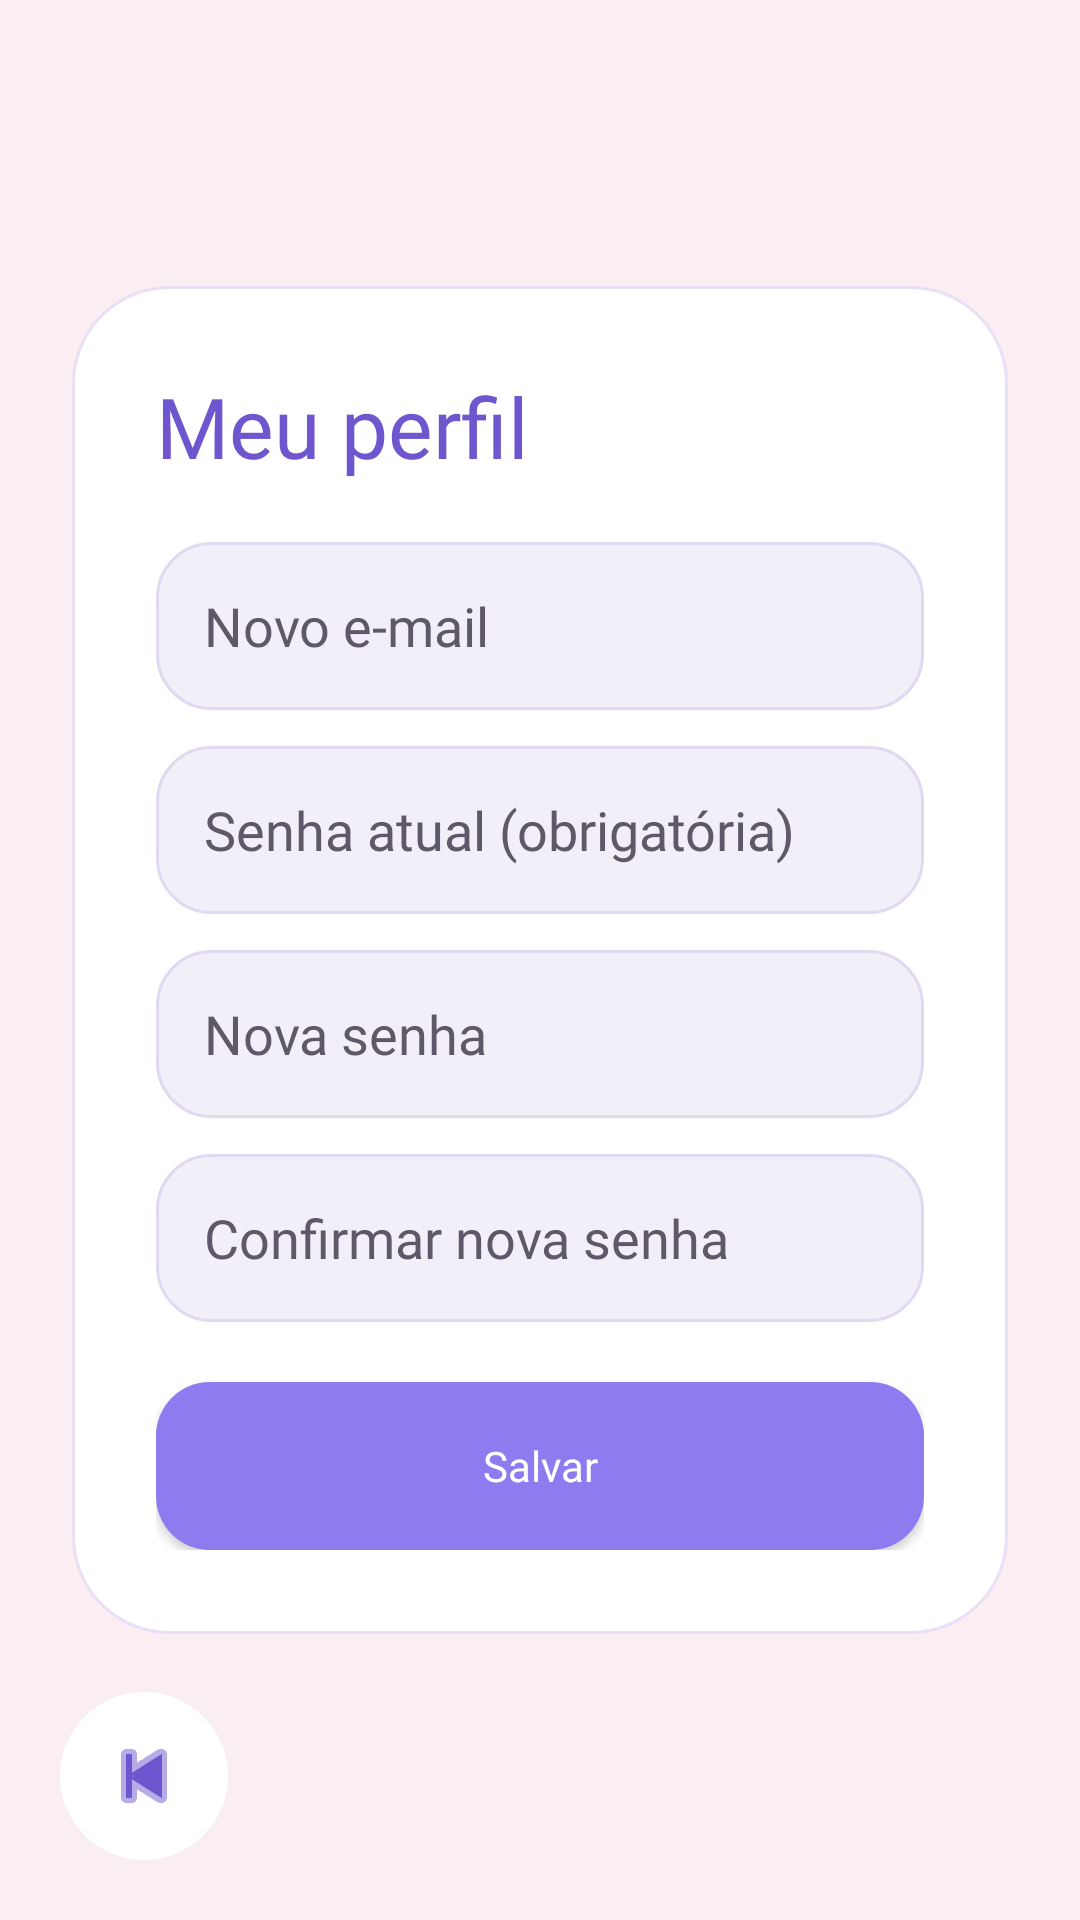

Icon bounding boxes for this 1080x1920 phone screenshot, format (x1=x1, y1=y1, x2=x2, y2=y2):
previous: (x1=121, y1=1749, x2=167, y2=1803)
